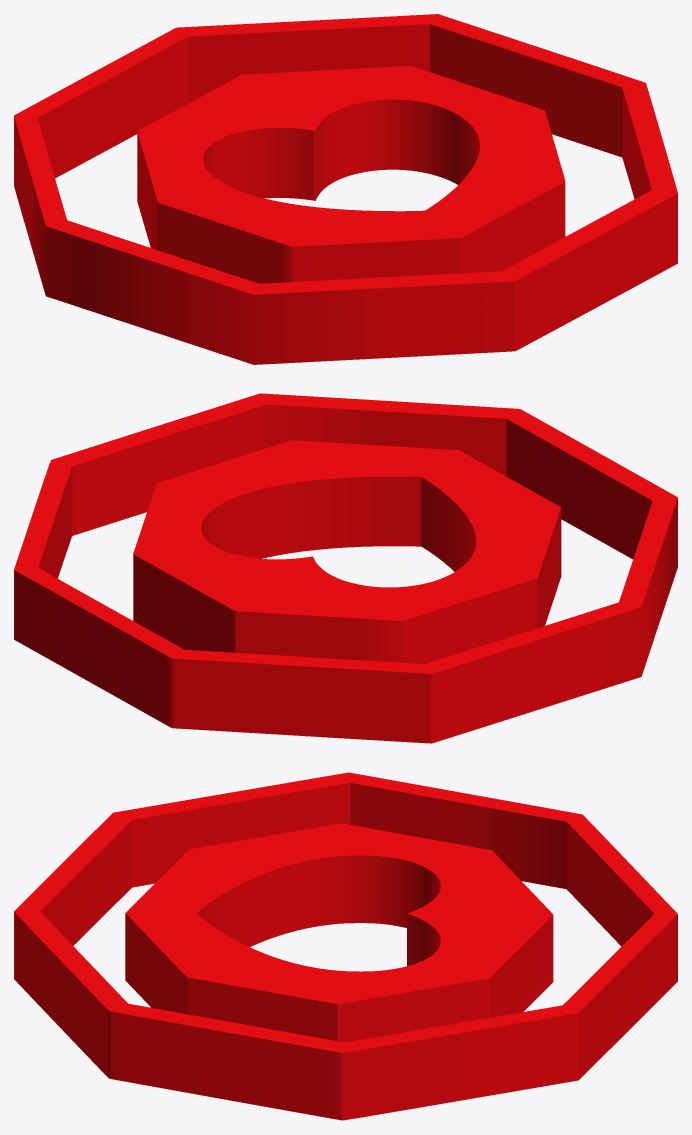
File: poweruphearth.fbx
3 views of the same model, one above another, from view 1: azimuth 30°, elevation 25°; view 2: azimuth 150°, elevation 25°; view 3: azimuth 270°, elevation 25° (orthographic). The views are drawn at different scales.
Visible parts, largest first — view 1: path1788; view 2: path1788; view 3: path1788.
Part boxes in pixels (x1,y1,x2,y2): path1788: [14, 14, 677, 364]; path1788: [14, 393, 677, 743]; path1788: [14, 772, 677, 1120].
Size of the model in its own units: 622 by 69.86 by 622.
